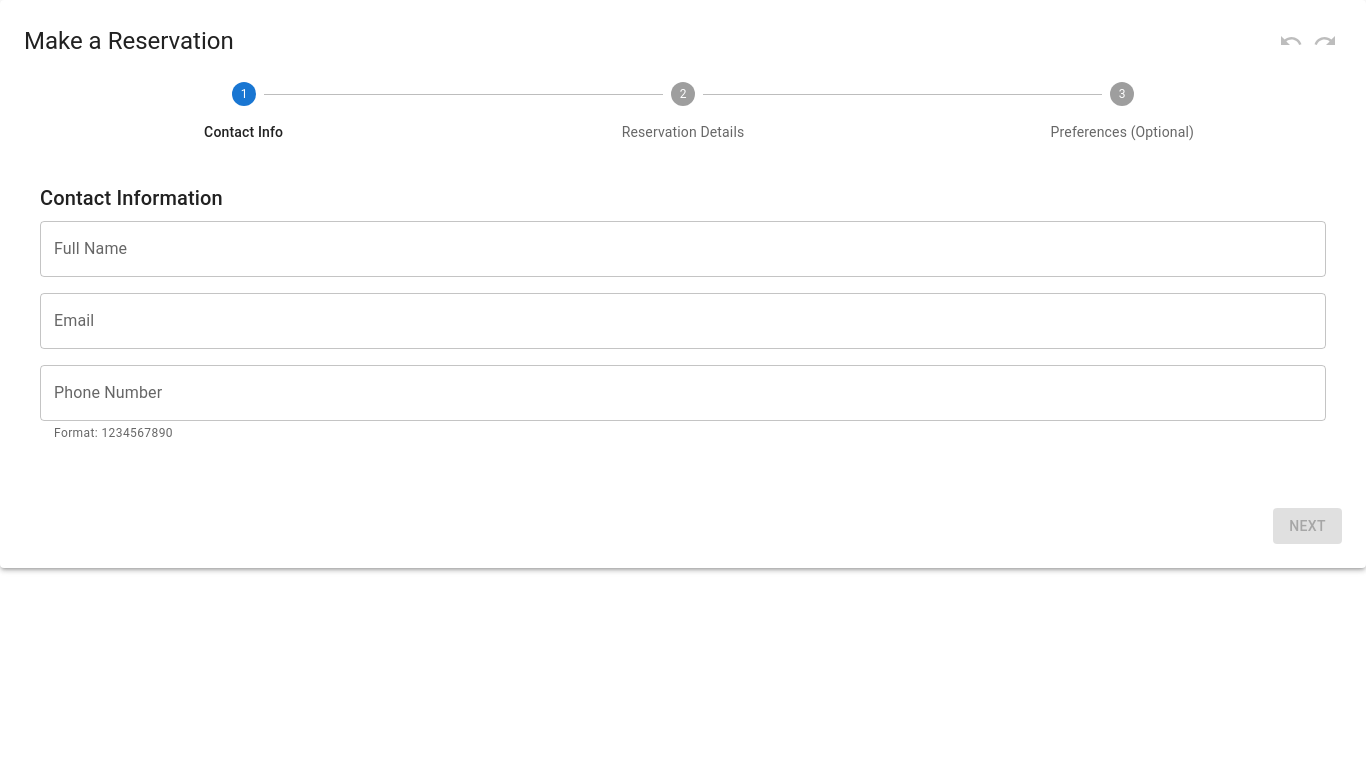
Test: BookingForm JavaScript Validation › displays error for invalid email format
This screenshot has width=1366, height=768.
Type "invalid-email" into the field labelled "Email". click: coordinates (683, 321)
box: [40,293,1326,349]
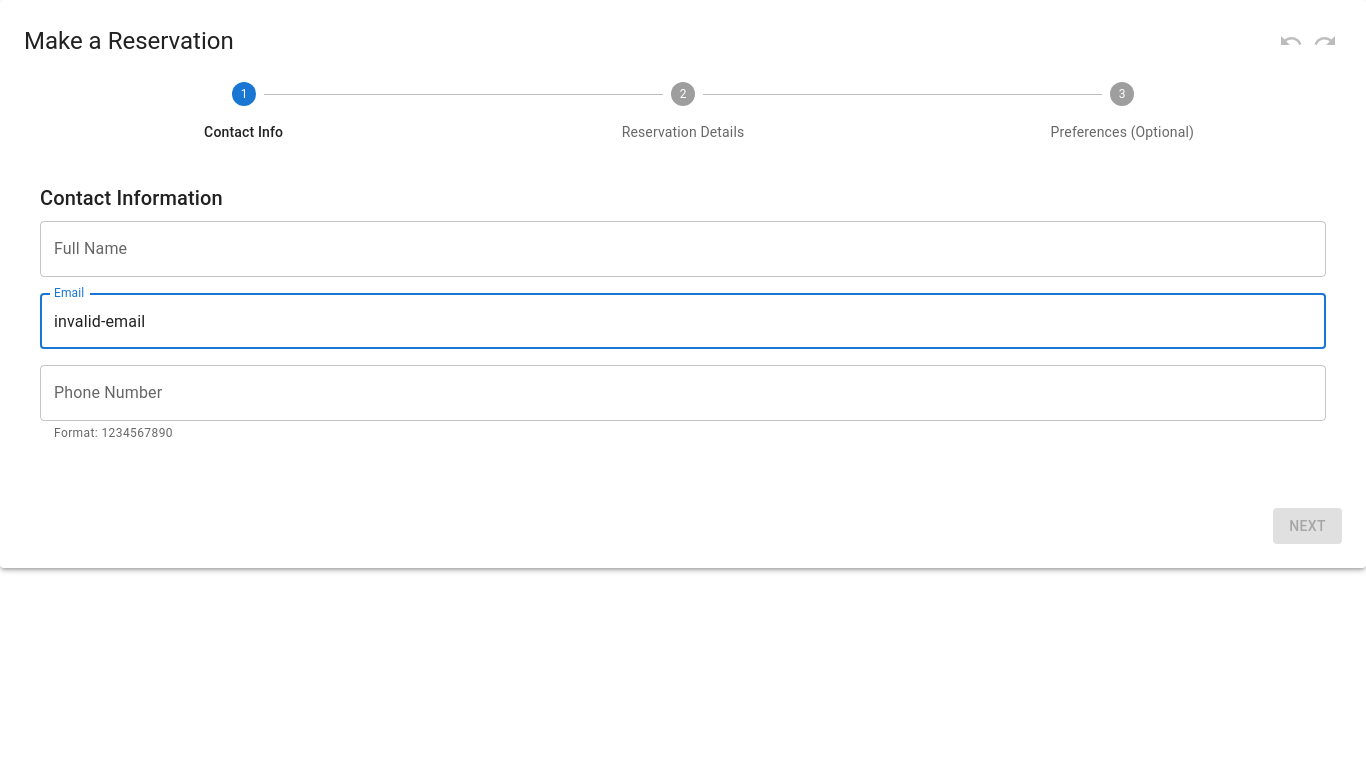
Leave the field labelled "Email", box [40,293,1326,349]
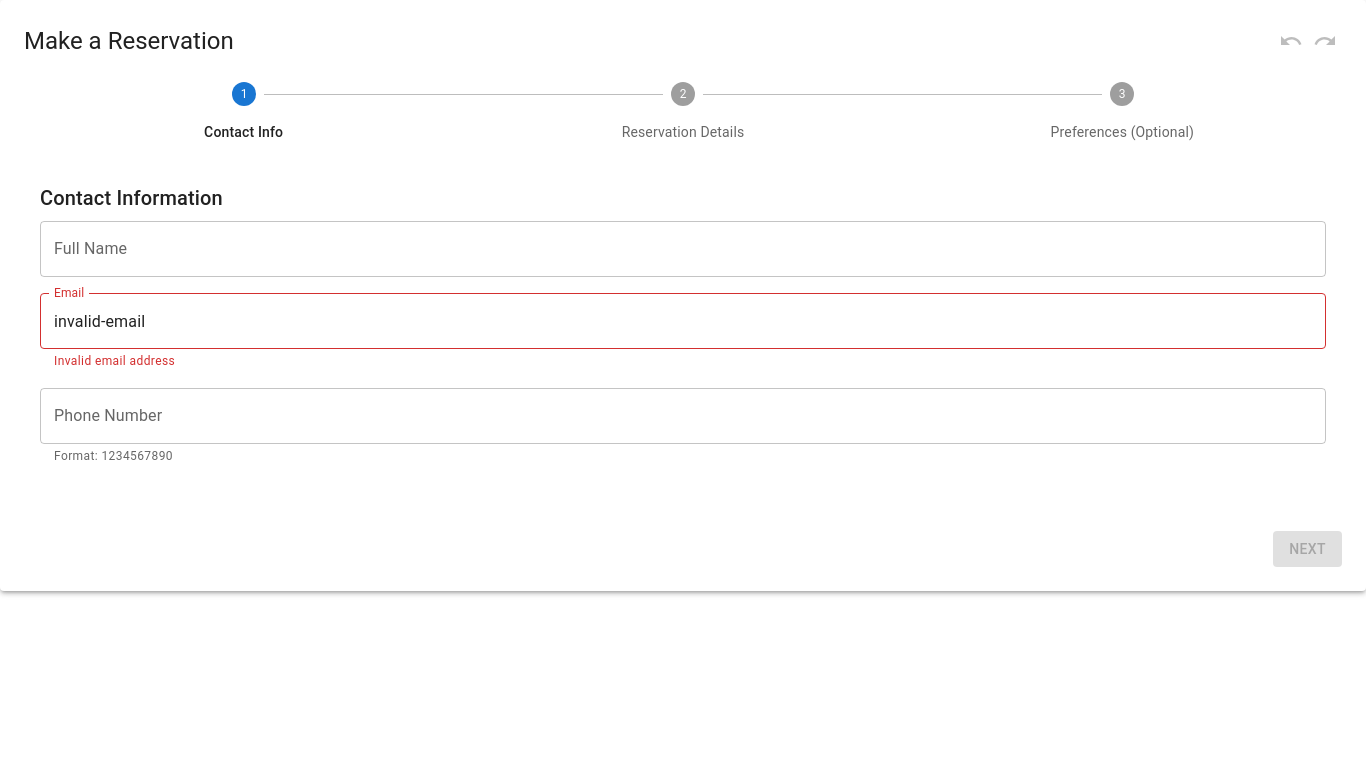
Now the text "Invalid email address" is shown, box [54,354,175,368]
